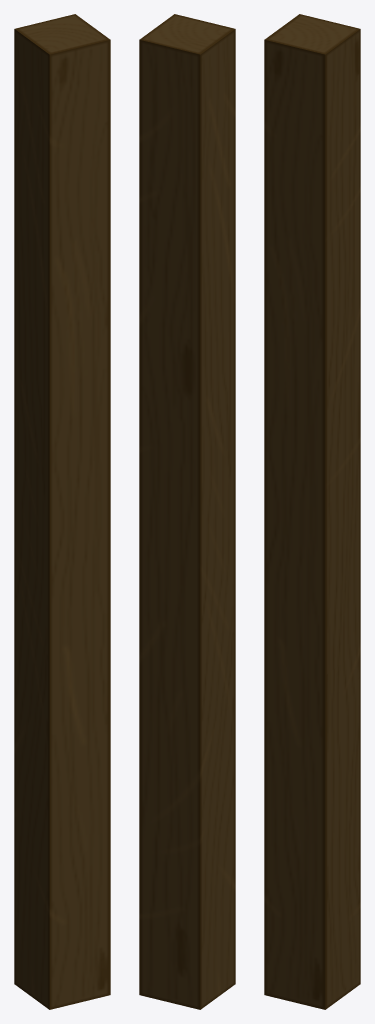
File: wooden pillar.fbx
3 views of the same model, side by side, from view 1: azimuth 30°, elevation 25°; view 2: azimuth 150°, elevation 25°; view 3: azimuth 330°, elevation 25° (orthographic).
Parts seen in each view (by area): view 1: Modular Pier End R; view 2: Modular Pier End R; view 3: Modular Pier End R.
Part boxes in pixels (bbox=[...]): Modular Pier End R: bbox=[14, 14, 110, 1009]; Modular Pier End R: bbox=[139, 14, 235, 1009]; Modular Pier End R: bbox=[264, 14, 360, 1009].
Bounding box in the file's own units: 40 × 600 × 40.
